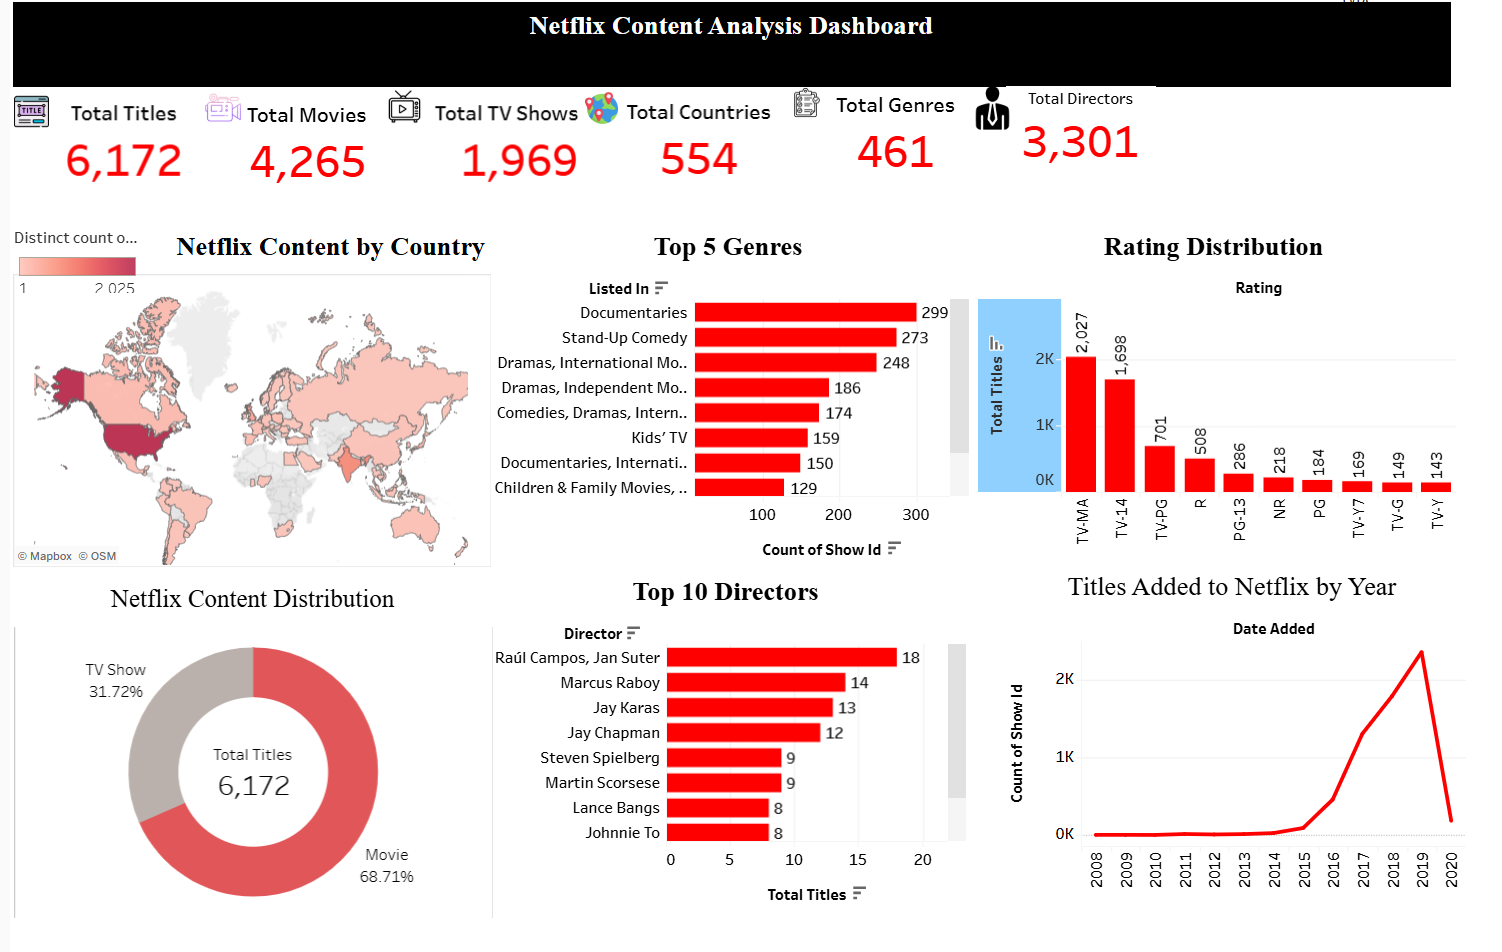

Layout of this report page (visuals, bound fields, positions):
{"tool":"tableau","page":{"name":"Dashboard 1","canvas":[1220,860],"ordinal":0},"visuals":[{"type":"legend","title":"Sheet 18","param":"[federated.1nu6yr81km99fx1ekusoj1284cqa].[none:type:nk]","box":[1060,0,160,66]},{"type":"worksheet","title":"Sheet 14","mark":"Automatic","box":[2,15,1151,68]},{"type":"worksheet","title":"Sheet 2","mark":"Automatic","box":[797,67,150,100]},{"type":"worksheet","title":"Sheet 1","mark":"Automatic","box":[476,69,150,100]},{"type":"worksheet","title":"Sheet 3","mark":"Automatic","box":[16,70,150,100]},{"type":"worksheet","title":"Sheet 5","mark":"Automatic","box":[308,70,150,100]},{"type":"worksheet","title":"Sheet 6","mark":"Automatic","box":[649,70,150,98]},{"type":"worksheet","title":"Sheet 4","mark":"Automatic","box":[139,71,150,100]},{"type":"image","param":"Image/boss.png","box":[767,81,38,45]},{"type":"image","param":"Image/tv-show.png","box":[300,83,32,31]},{"type":"image","param":"Image/item.png","box":[625,83,25,32]},{"type":"image","param":"Image/video-camera.png","box":[156,85,29,39]},{"type":"image","param":"Image/country.png","box":[460,87,26,32]},{"type":"image","param":"Image/title.png","box":[3,89,28,35]},{"type":"worksheet","title":"Sheet 16","mark":"Multipolygon","box":[2,192,383,275]},{"type":"worksheet","title":"Sheet 12","mark":"Automatic","rows":["listed_in"],"cols":["show_id"],"box":[387,192,383,275]},{"type":"worksheet","title":"Sheet 11","mark":"Automatic","rows":["show_id"],"cols":["rating"],"box":[774,192,383,275]},{"type":"legend","title":"Sheet 16","param":"[federated.1nu6yr81km99fx1ekusoj1284cqa].[ctd:title:qk]","box":[3,195,102,53]},{"type":"worksheet","title":"Sheet 10","mark":"Automatic","rows":["show_id"],"cols":["date_added"],"box":[786,459,383,275]},{"type":"worksheet","title":"Sheet 13","mark":"Automatic","rows":["director"],"cols":["show_id"],"box":[385,468,383,275]},{"type":"worksheet","title":"Sheet 18","mark":"Pie","rows":["Calculation_0976385230569479","Calculation_0976385230569479"],"box":[3,473,383,275]}]}

Visuals, with their boxes on the page's 1220x860 design canvas (x1, y1, x2, y2). These are canvas units, not pixel positions in the 1502x952 screenshot, which may show the page scaled, cropped or inside an application window:
"Sheet 18" legend: [1060,0,1220,66]
"Sheet 14" worksheet: [2,15,1153,83]
"Sheet 2" worksheet: [797,67,947,167]
"Sheet 1" worksheet: [476,69,626,169]
"Sheet 3" worksheet: [16,70,166,170]
"Sheet 5" worksheet: [308,70,458,170]
"Sheet 6" worksheet: [649,70,799,168]
"Sheet 4" worksheet: [139,71,289,171]
image: [767,81,805,126]
image: [300,83,332,114]
image: [625,83,650,115]
image: [156,85,185,124]
image: [460,87,486,119]
image: [3,89,31,124]
"Sheet 16" worksheet (Multipolygon marks): [2,192,385,467]
"Sheet 12" worksheet: [387,192,770,467]
"Sheet 11" worksheet: [774,192,1157,467]
"Sheet 16" legend: [3,195,105,248]
"Sheet 10" worksheet: [786,459,1169,734]
"Sheet 13" worksheet: [385,468,768,743]
"Sheet 18" worksheet (Pie marks): [3,473,386,748]
